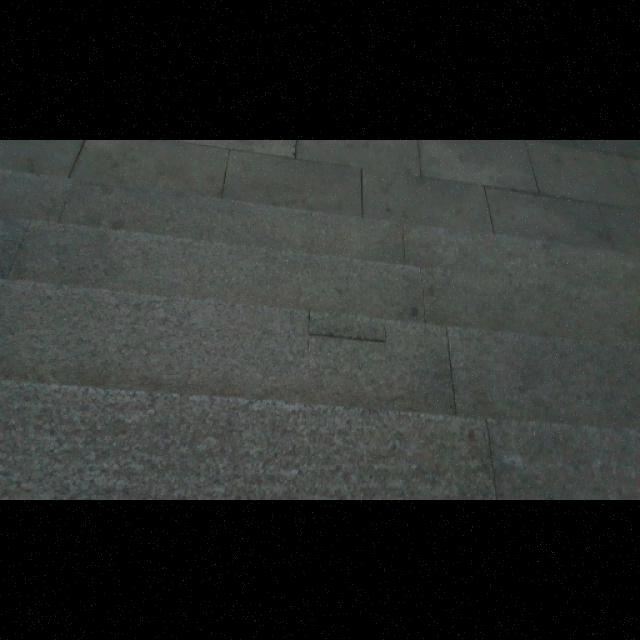stair: (8, 217, 630, 476)
